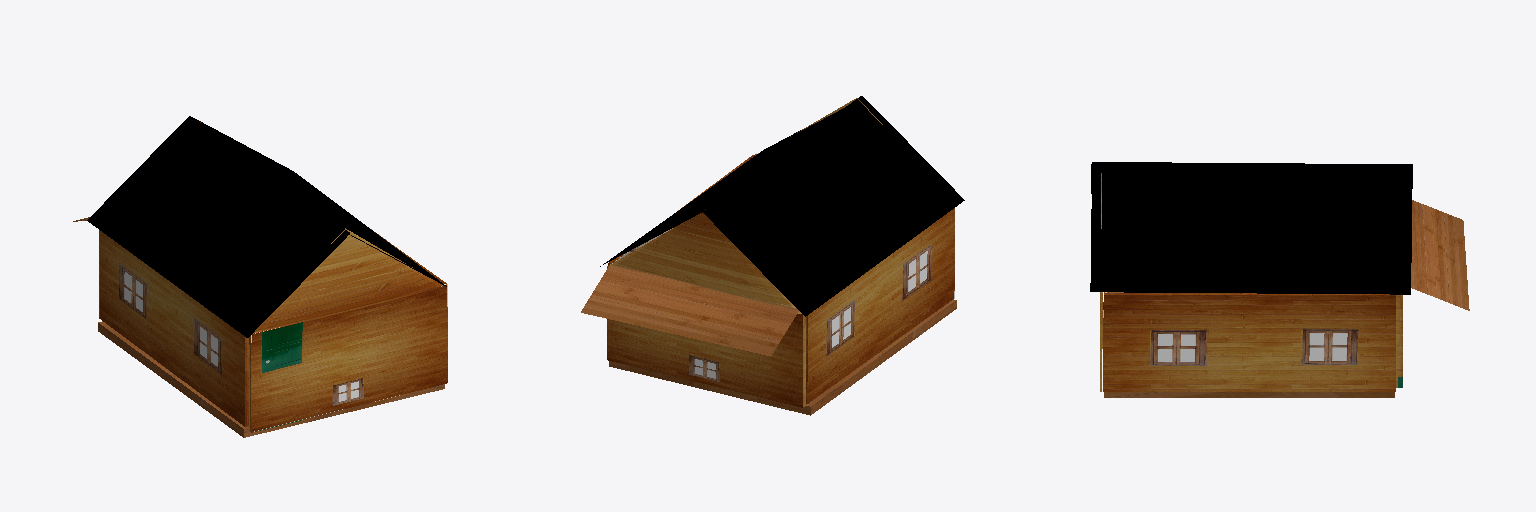
The picture shows the model from 3 angles: view 1: azimuth 30°, elevation 25°; view 2: azimuth 150°, elevation 25°; view 3: azimuth 270°, elevation 25°; orthographic projection.
Parts seen in each view (by area): view 1: pasted__pPlane1 group5, pCube4, pasted__polySurface1 polySurface5 group7, pasted__pCone1 group3, pPlane1, polySurface4 pasted__polySurface1; view 2: pasted__pPlane1 group5, pasted__polySurface1 polySurface5 group7, pasted__pasted__pPlane1 pasted__group5 group6, pCube6, pCone1, polySurface4 pasted__polySurface1, pPlane1; view 3: pPlane1, pasted__polySurface5 pasted__pasted__polySurface1 group1, pasted__pasted__pPlane1 pasted__group5 group6, polySurface4 pasted__polySurface1, pCube6.
Boxes of the visible parts, x1,y1,x2,y2 form: pasted__pPlane1 group5: [87, 116, 349, 337]; pCube4: [249, 284, 447, 432]; pasted__polySurface1 polySurface5 group7: [100, 231, 248, 426]; pasted__pCone1 group3: [254, 228, 441, 332]; pPlane1: [194, 118, 446, 286]; polySurface4 pasted__polySurface1: [98, 321, 444, 437]; pasted__pPlane1 group5: [703, 96, 964, 316]; pasted__polySurface1 polySurface5 group7: [806, 208, 954, 403]; pasted__pasted__pPlane1 pasted__group5 group6: [581, 265, 798, 355]; pCube6: [607, 264, 805, 407]; pCone1: [608, 209, 801, 313]; polySurface4 pasted__polySurface1: [609, 299, 956, 415]; pPlane1: [600, 97, 862, 266]; pPlane1: [1090, 162, 1412, 294]; pasted__polySurface5 pasted__pasted__polySurface1 group1: [1103, 293, 1395, 391]; pasted__pasted__pPlane1 pasted__group5 group6: [1411, 200, 1469, 310]; polySurface4 pasted__polySurface1: [1104, 292, 1394, 397]; pCube6: [1396, 295, 1402, 387].
Bounding box in the file's own units: 470 × 404 × 747.
11 materials, 5 textured.